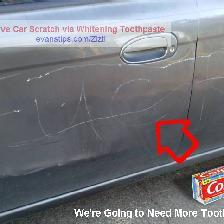door_scratch: (15, 53, 215, 145)
